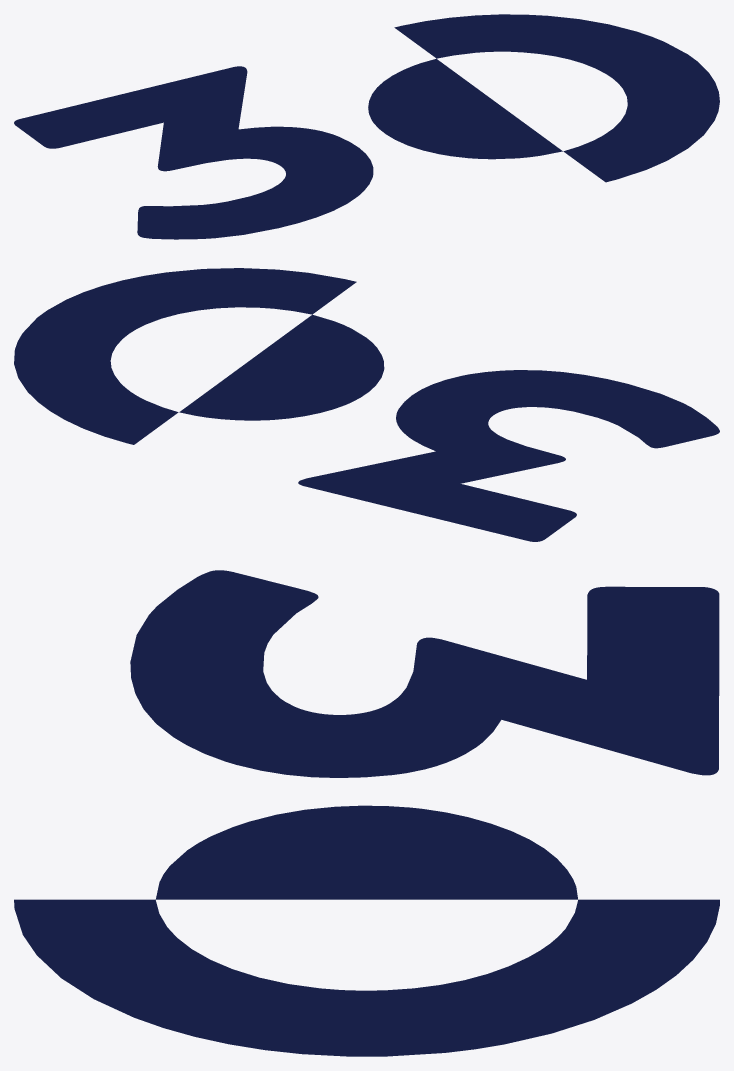
Rendered from compass-with-transform.gltf.
3 views of the same model, one above another, from view 1: azimuth 30°, elevation 25°; view 2: azimuth 150°, elevation 25°; view 3: azimuth 270°, elevation 25° (orthographic). The views are drawn at different scales.
Visible parts, largest first — view 1: Curve.005, Curve.003, Curve.006; view 2: Curve.005, Curve.003, Curve.006; view 3: Curve.005, Curve.003, Curve.006.
Part boxes in pixels (x1,y1,x2,y2): Curve.005: [14, 66, 373, 239]; Curve.003: [394, 14, 719, 182]; Curve.006: [368, 58, 562, 159]; Curve.005: [298, 370, 719, 541]; Curve.003: [14, 268, 356, 444]; Curve.006: [179, 314, 384, 420]; Curve.005: [130, 570, 719, 777]; Curve.003: [14, 899, 719, 1056]; Curve.006: [155, 805, 577, 899].
Size of the model in its own units: 2.08 by 0 by 1.27.
